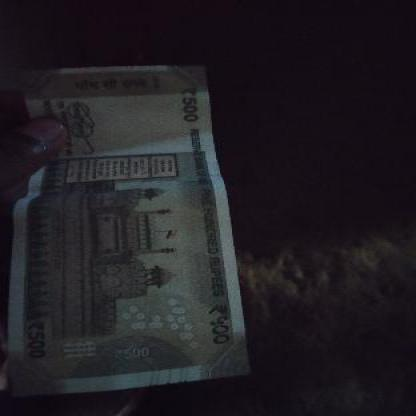New500Back: (16, 71, 244, 380)
